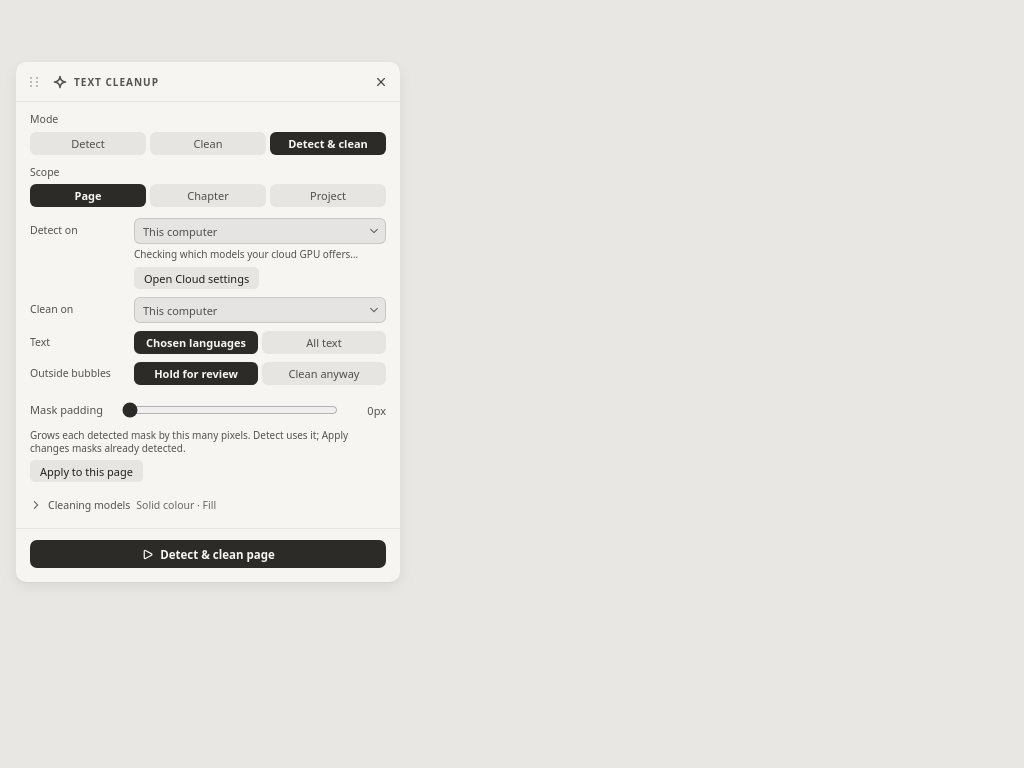
Test: the Text cleanup panel from the keyboard › closes a popover inside the panel on Escape, and nothing else
This screenshot has width=1024, height=768.
Click the button "Cleaning models Solid colour · Fill" at (208, 505), box [30, 493, 386, 517]
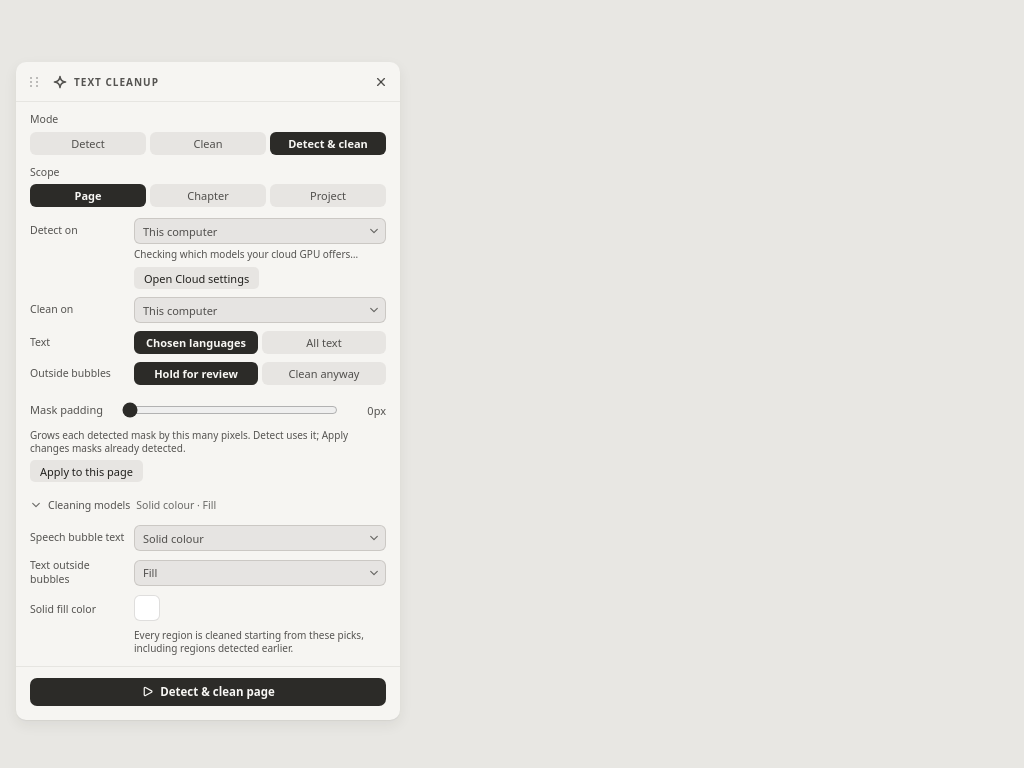
Click the button named "Solid fill color" at (147, 608), box [134, 595, 160, 621]
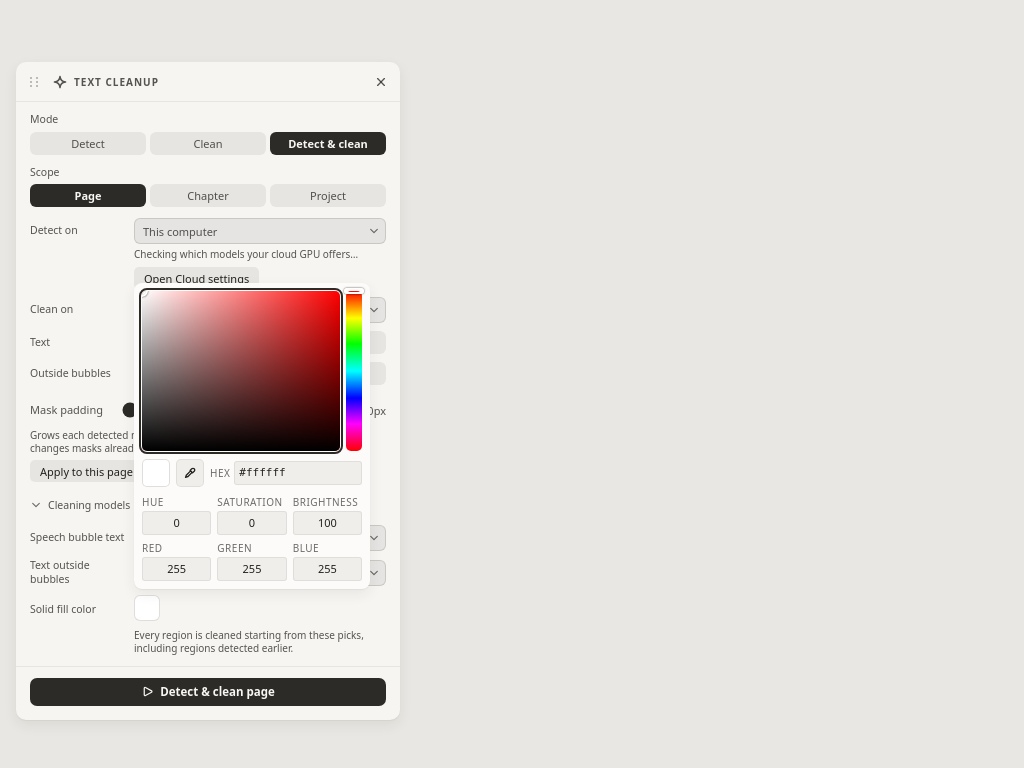
Check: the dialog is shown, box [134, 283, 370, 589]
Press Escape in the button named "Pick a color from the screen", box [176, 459, 204, 487]
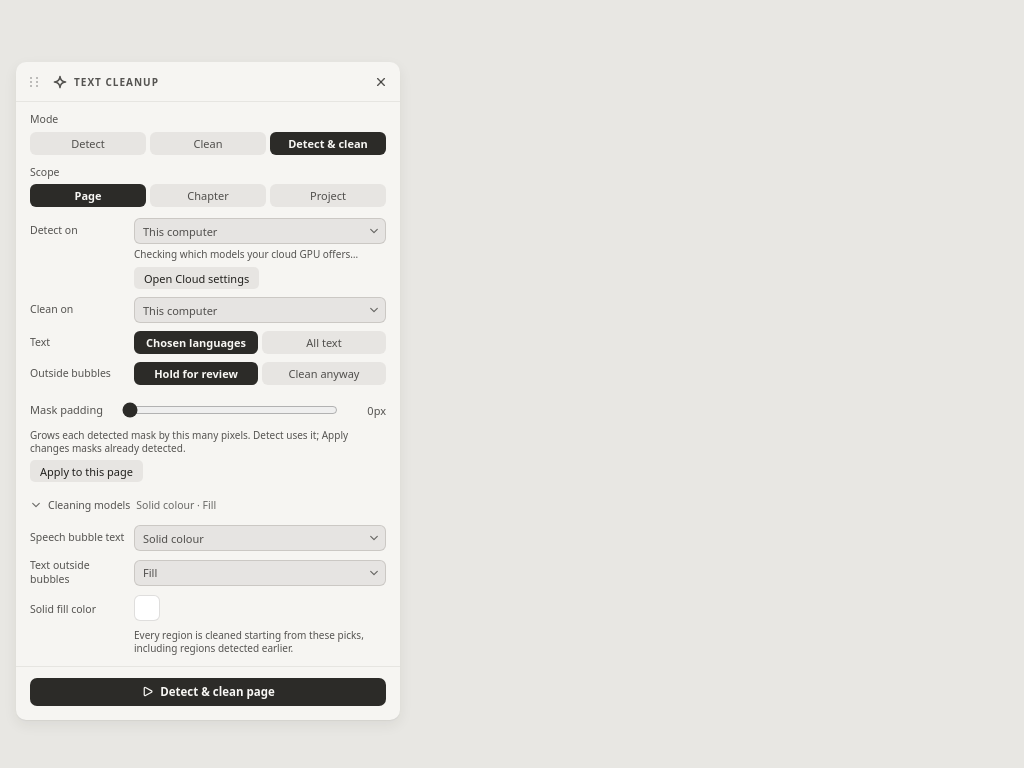
Check: the element named "Mode" is shown, box [30, 132, 386, 155]
Check: the dialog is gone
